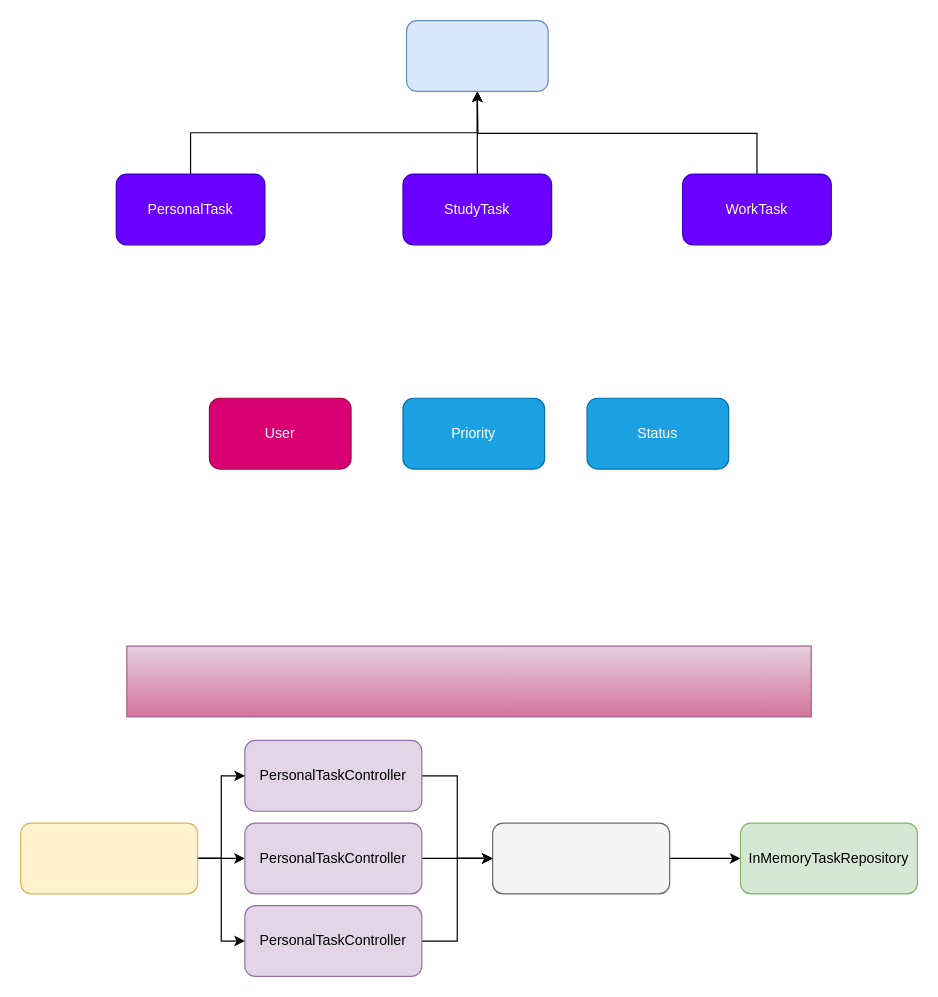
The diagram is 938 pixels wide and 997 high, and some of its shapes have lost their labels. Here are the shapes that lost their labels. From the top down, the centre of each, then its label:
At point (476, 55): "BaseTask".
At point (468, 681): "FLUXO DO SISTEMA".
At point (108, 858): "AdaTaskApplication".
At point (580, 858): "TaskService".
